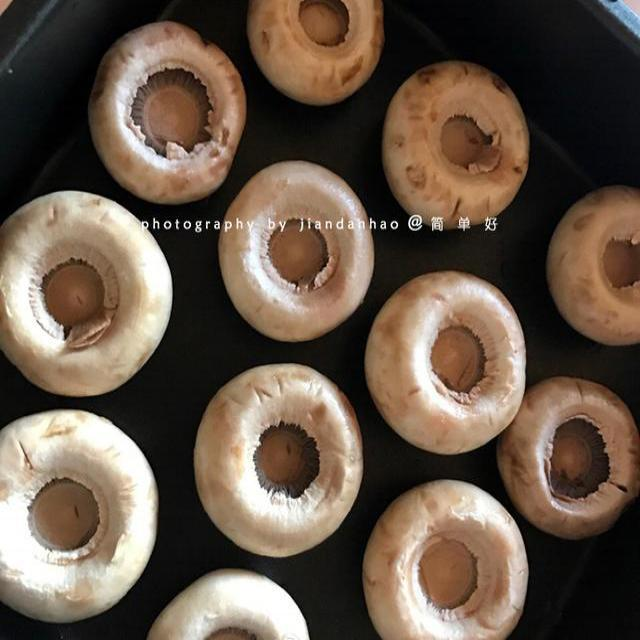Agaricus bisporus: (3, 190, 178, 397), (0, 414, 159, 618), (195, 358, 351, 544), (371, 274, 530, 448), (104, 15, 252, 200), (367, 479, 531, 639), (384, 59, 522, 231), (239, 163, 376, 327), (504, 374, 640, 532), (551, 186, 640, 350)
